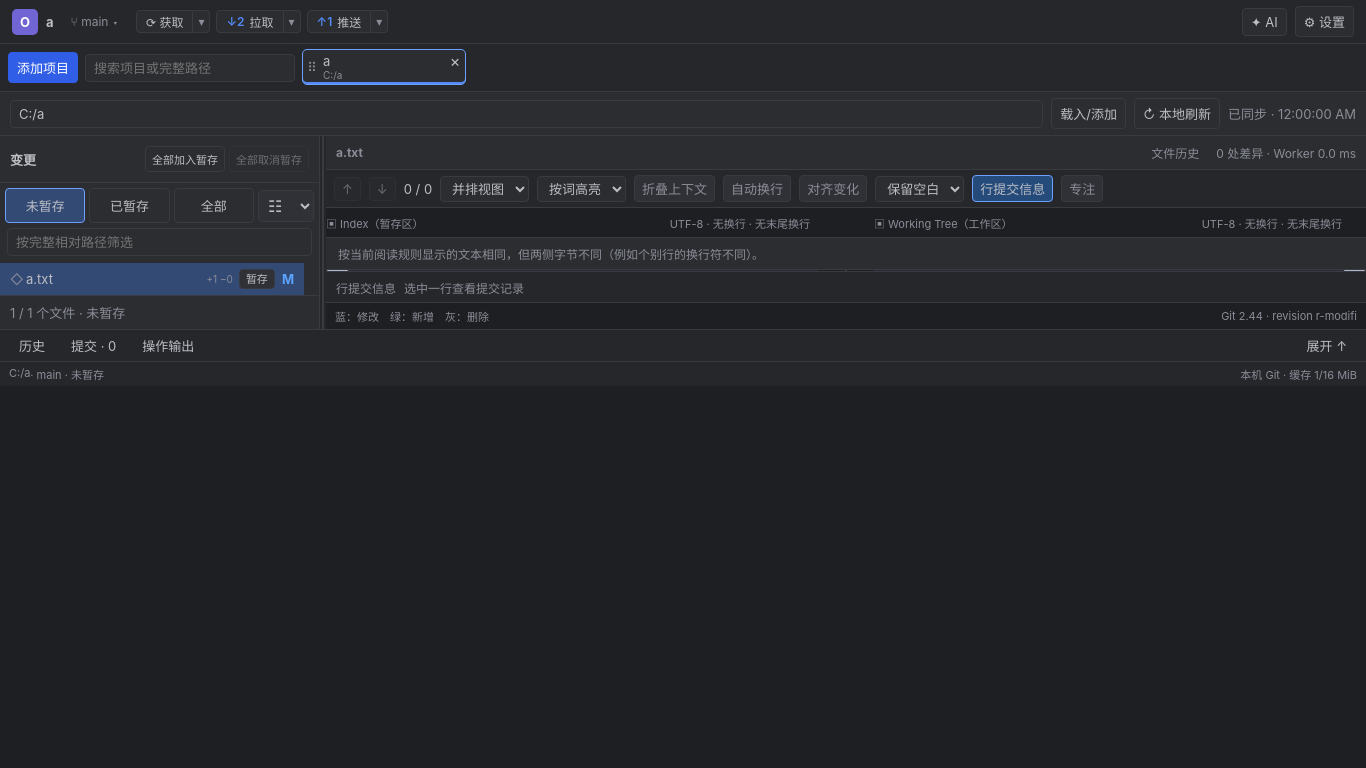
Scenario: sync entry (B11) › pulls fast-forward only by default, offers merge on divergence and stash when local changes block
Click the button "↓2 拉取": (250, 22) [216,10,284,33]
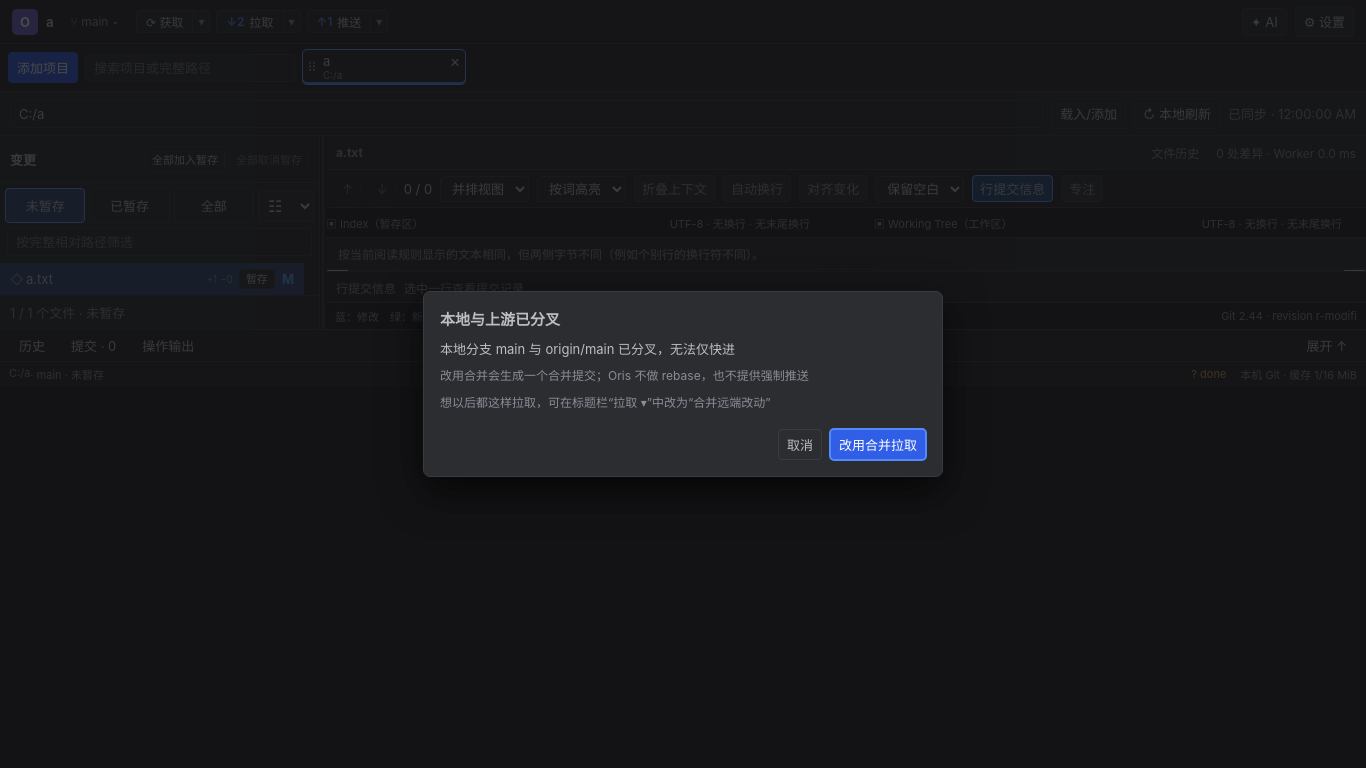
expect the dialog with class "confirm-dialog" shows "已分叉": met, box [440,341,735,357]
expect the button "改用合并拉取" is shown: met
Click the button "改用合并拉取": (878, 444) [830,429,926,460]
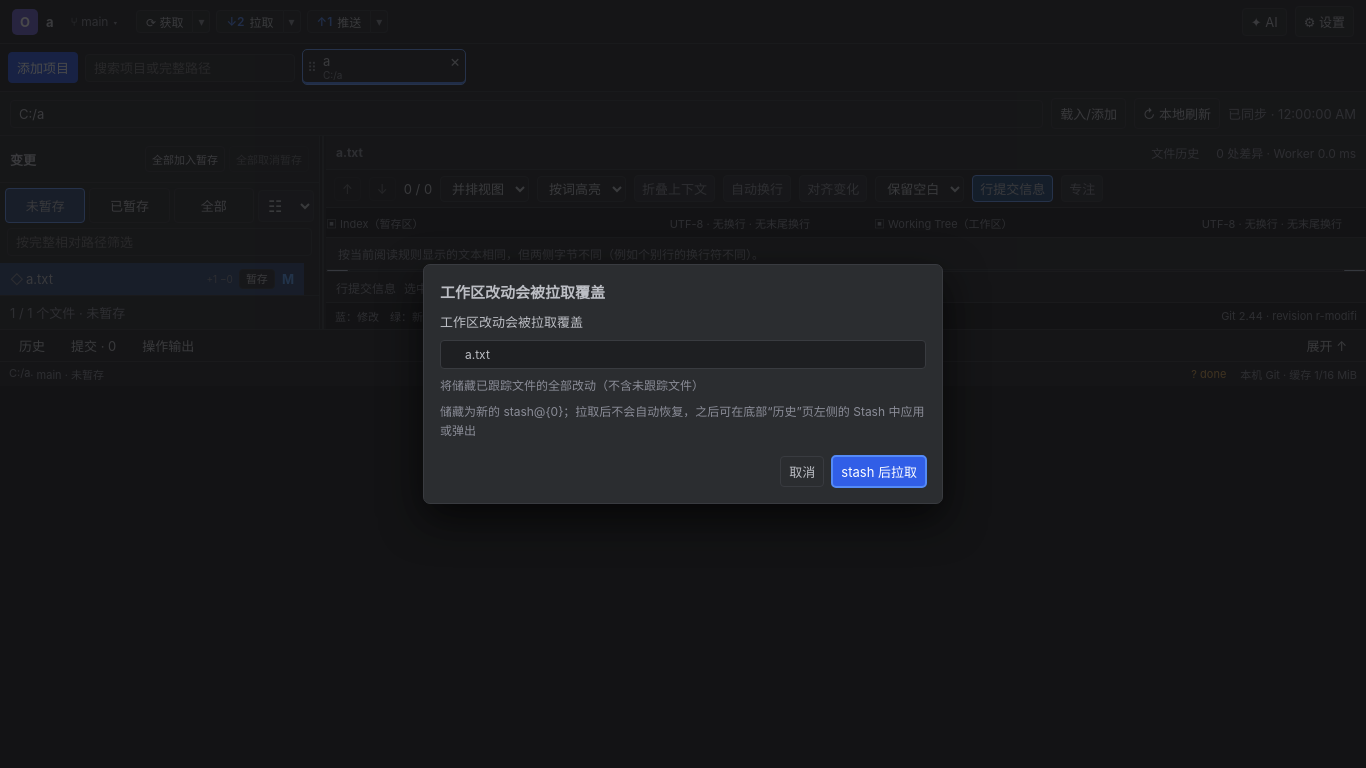
expect the button "stash 后拉取" is shown: met
expect the dialog with class "confirm-dialog" shows "stash 后拉取": met
Click the button "stash 后拉取": (879, 472) [832,456,926,488]
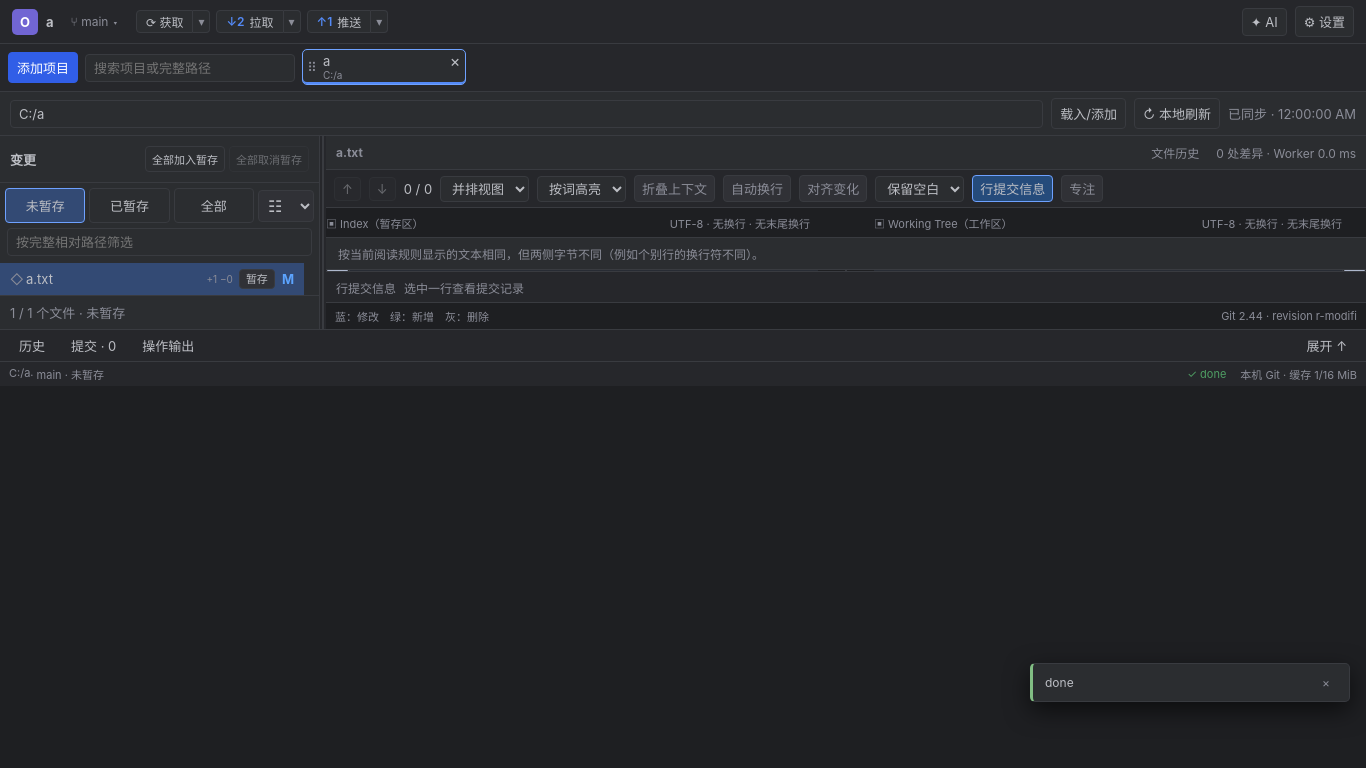
expect the message "done ×" is shown: met, box [1030,663,1350,702]
